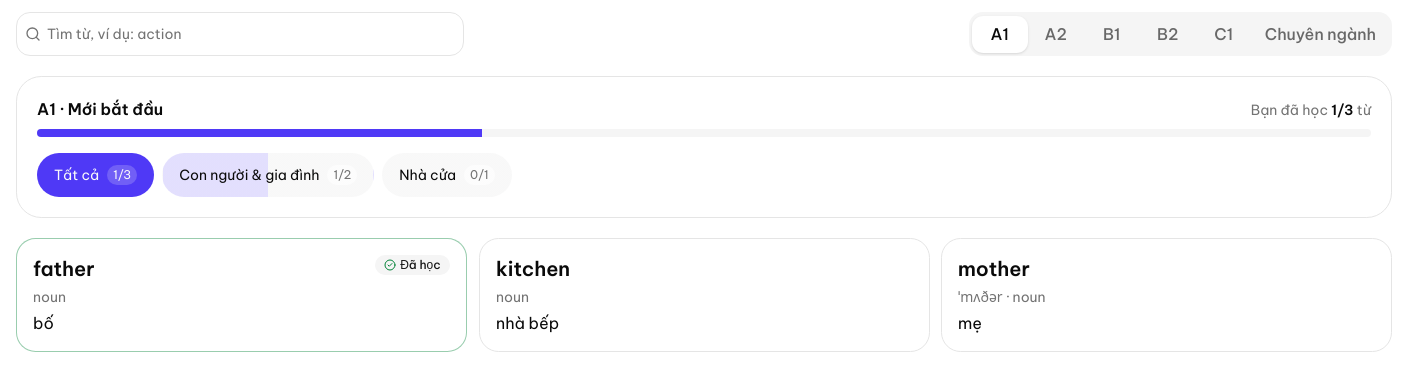
Scenario: VocabularyBrowser › lists the level's words by topic with learned markers (AC-006)
Expected: the number of links is 3, [16,238,467,352]; [479,238,929,352]; [941,238,1392,352]
Expected: the text "Đã học" is shown, [375,255,450,275]
What coordinates should you click on to do the following:
click the button with aria-label "Nhà cửa: đã học 0/1"
I would click on:
 (447, 175)
Its box is [382,153,512,197].
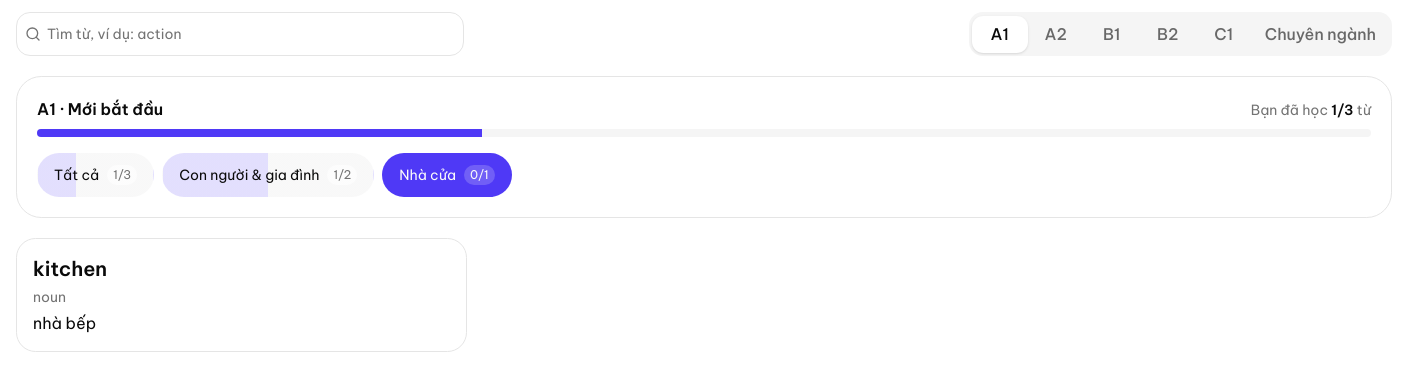
Expected: the number of links is 1, [16,238,467,352]
